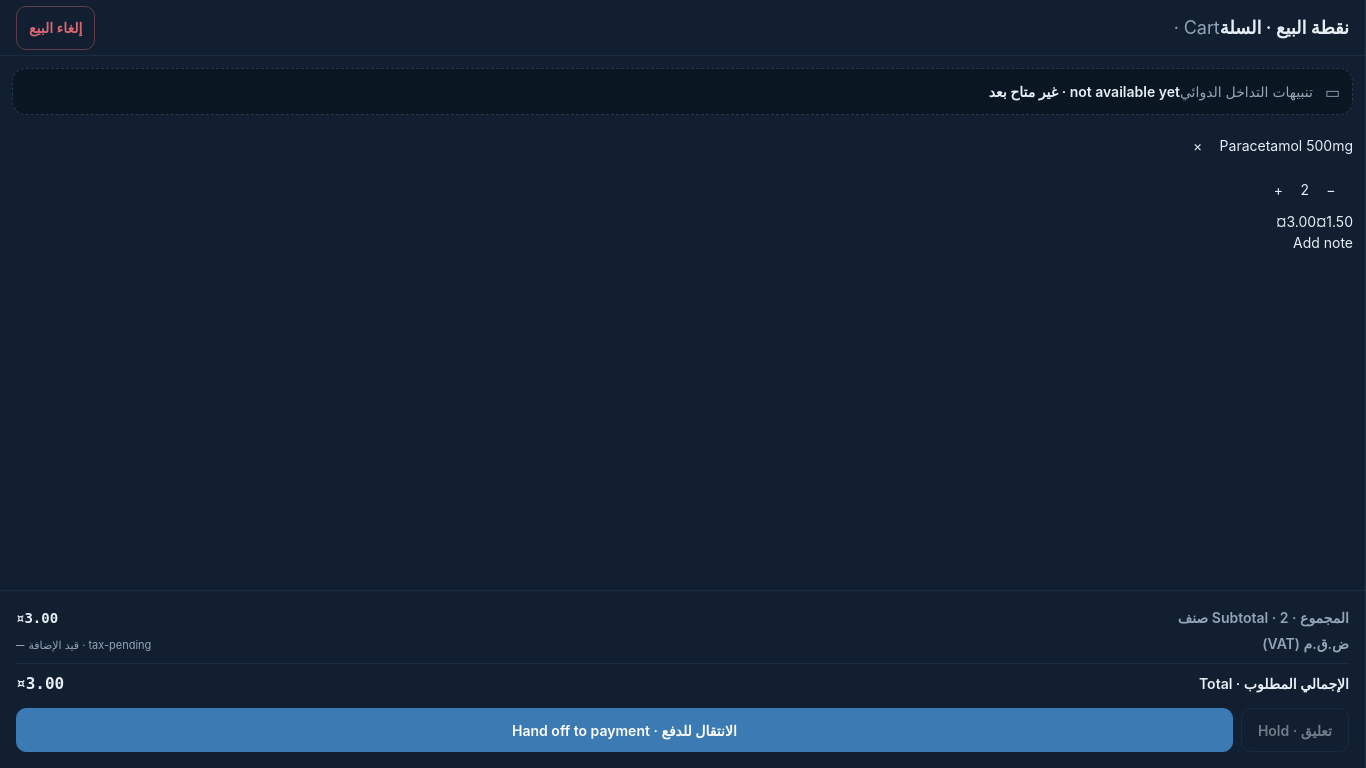
it: T052 — CartPane bridge: remove line › removes the line row after remove ok response
Expected: the element with test id "line-item-row" is shown, [1176,123,1353,253]
Click the button with test id "line-remove-btn".
click(1198, 145)  # box [1176,123,1220,167]
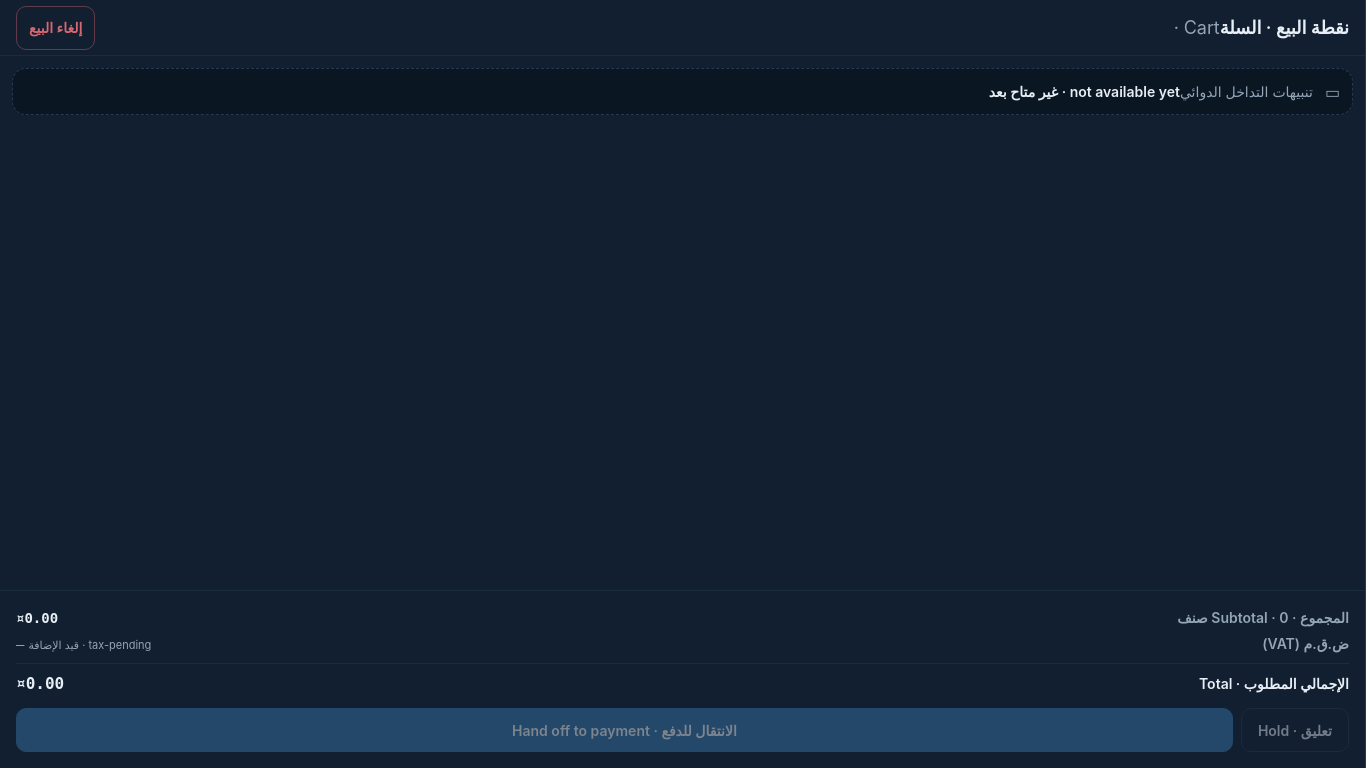
Now the element with test id "line-item-row" is gone
